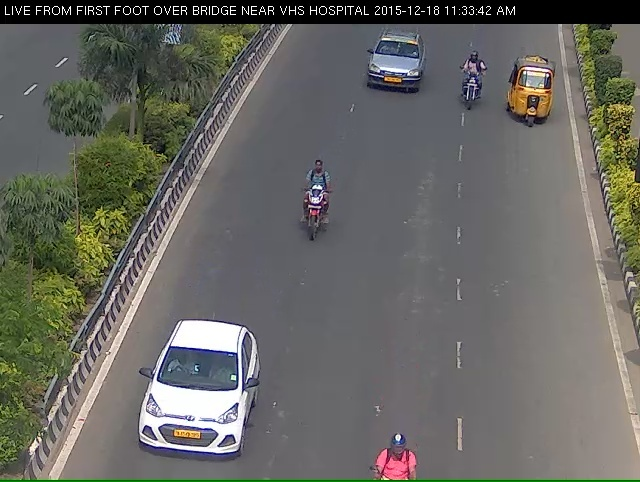Car: (114, 367, 261, 479), (356, 38, 428, 112), (500, 61, 558, 142)
Person: (279, 183, 338, 273), (462, 55, 489, 128)
